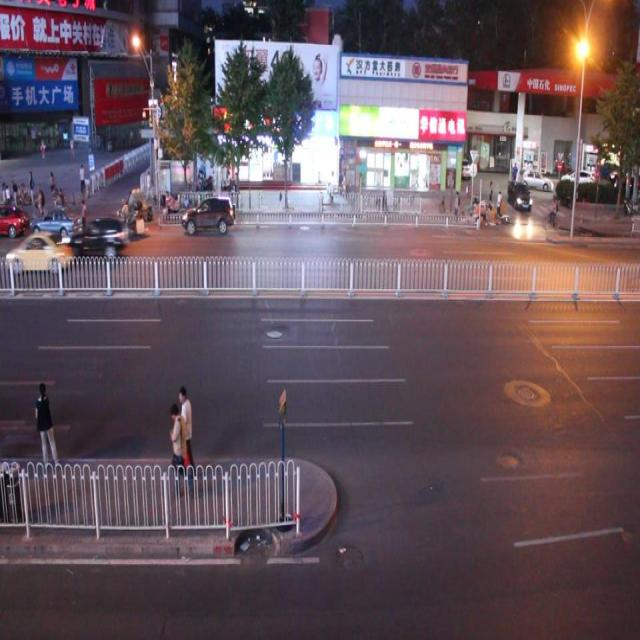car: (64, 214, 128, 264), (11, 228, 70, 272), (182, 191, 237, 233), (30, 199, 86, 240)
